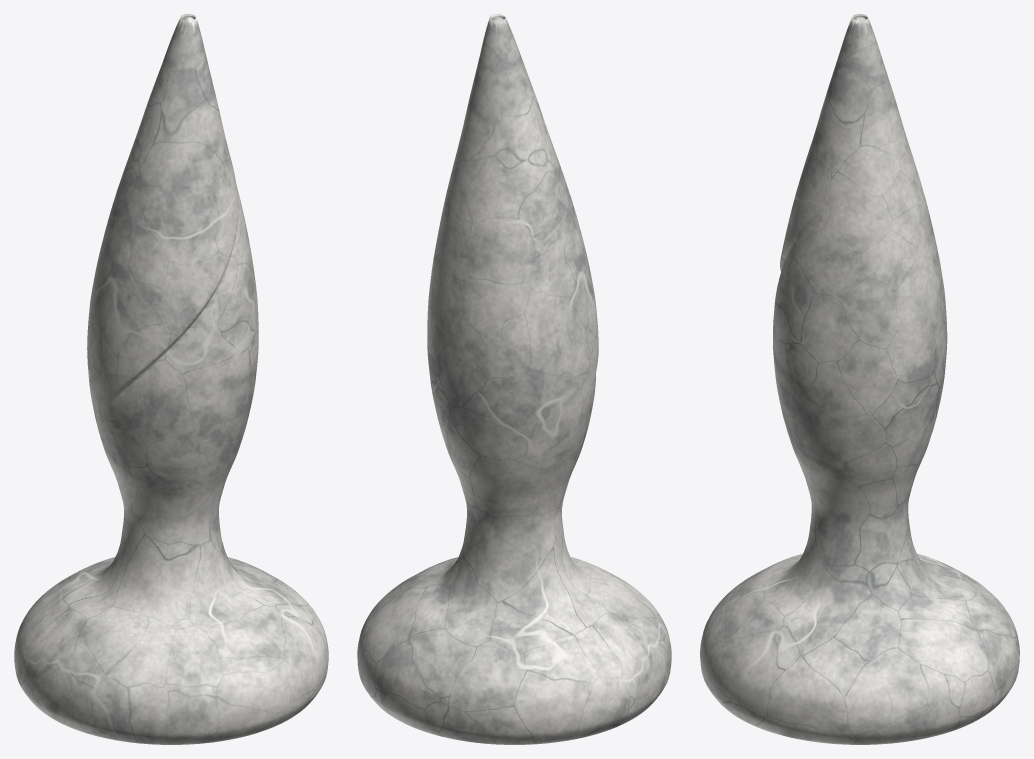
The model's file is bishop-white-hd.glb.
3 renders of one model, left to right at view 1: azimuth 30°, elevation 25°; view 2: azimuth 150°, elevation 25°; view 3: azimuth 270°, elevation 25°, orthographic.
Parts seen in each view (by area): view 1: Serpentina_bishop_white; view 2: Serpentina_bishop_white; view 3: Serpentina_bishop_white.
Boxes of the visible parts, bbox=[...] form: Serpentina_bishop_white: bbox=[14, 14, 328, 744]; Serpentina_bishop_white: bbox=[357, 14, 671, 744]; Serpentina_bishop_white: bbox=[700, 14, 1019, 744].
Bounding box in the file's own units: 0.6355 × 1.48 × 0.6356.
Materials: 1 (1 with a texture image).
